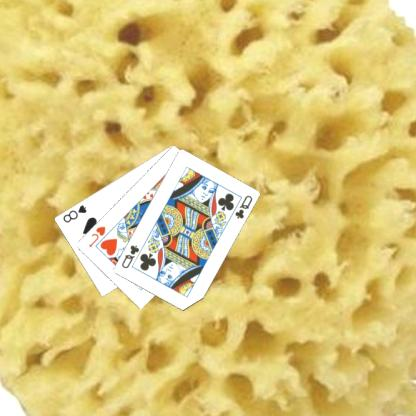8S: (62, 202, 90, 224)
JH: (88, 224, 108, 248)
QC: (233, 192, 256, 221), (120, 242, 142, 270)
